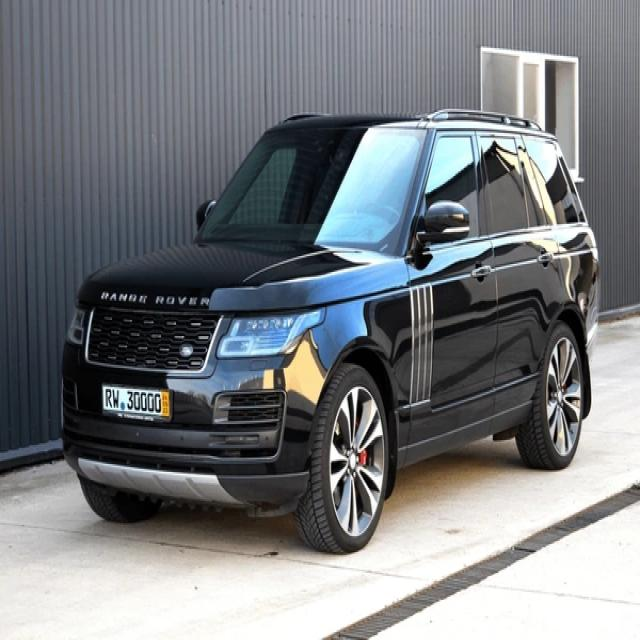rangerover: (101, 286, 223, 314)
